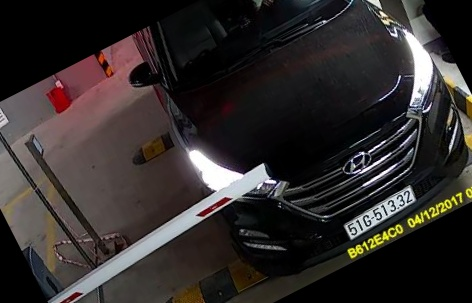plate: (342, 180, 421, 238)
